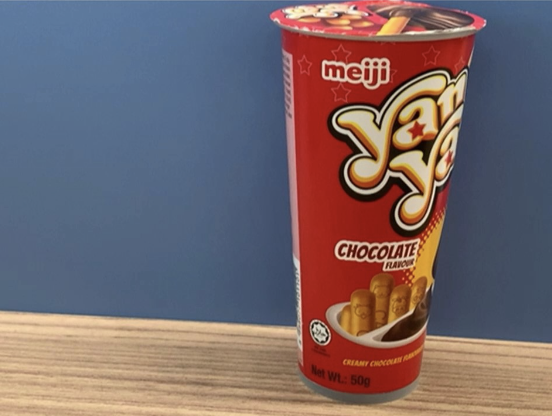cookies_1g-99g: (299, 56, 429, 386)
